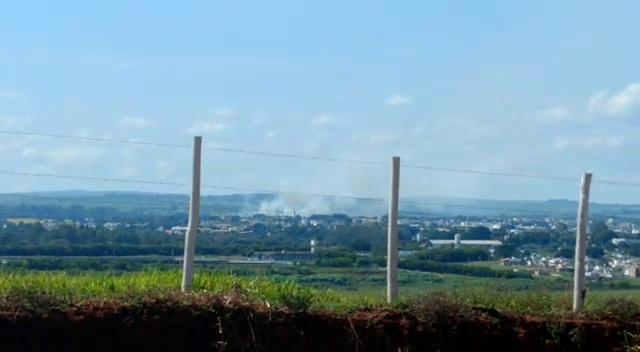smoke: (278, 186, 325, 212)
